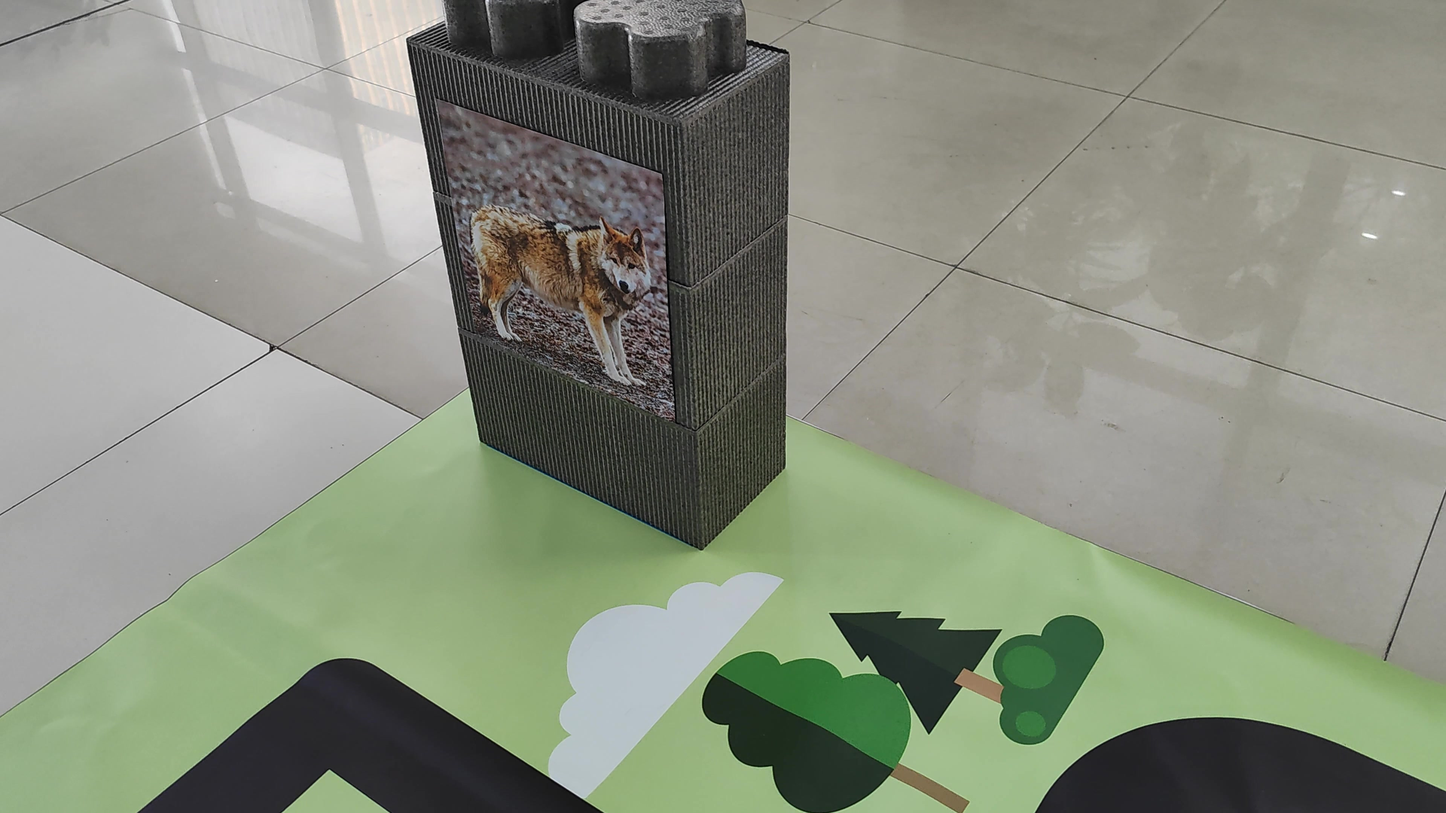wolf: (442, 155, 668, 408)
